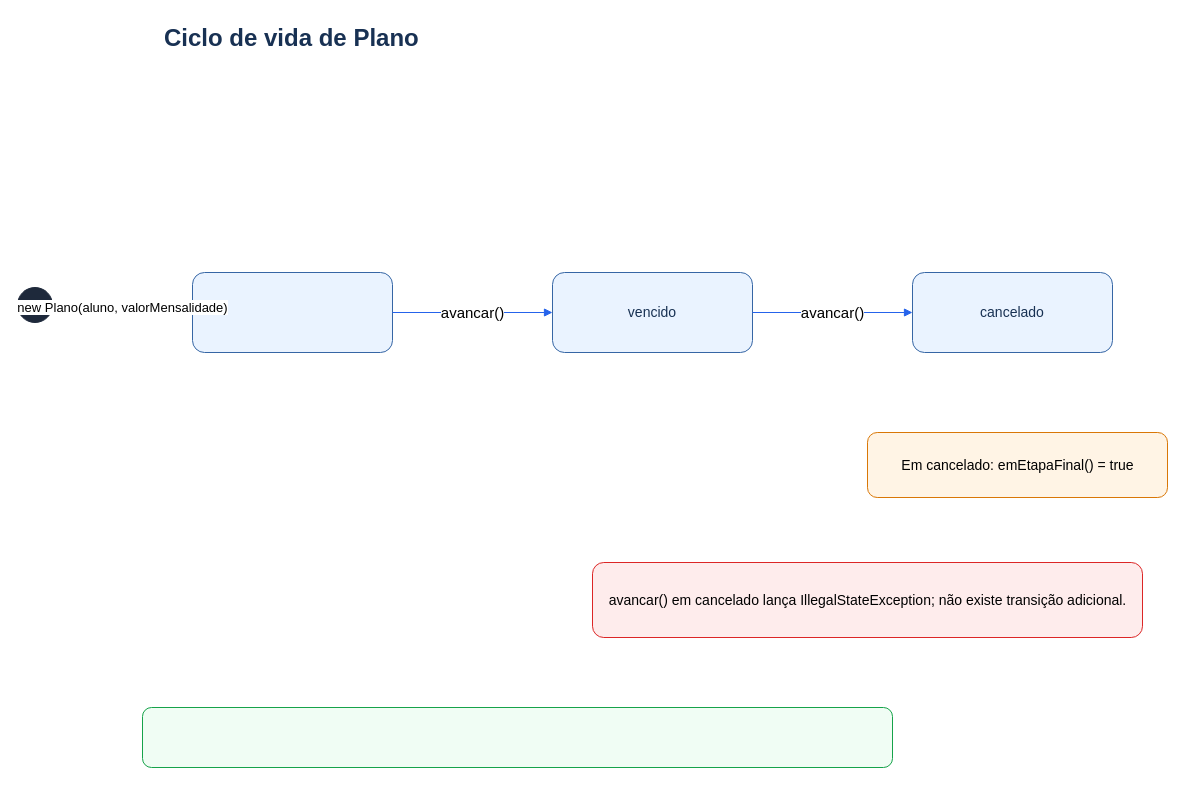
This 1185x785 diagram has some shape labels left out. The box of each missing label's shape, as (x1, y1, x2, y2) in pixels:
ativo: (192, 272, 392, 352)
Pré-condições do construtor: aluno != null e valorMensalidade >= 0.: (142, 706, 892, 768)
